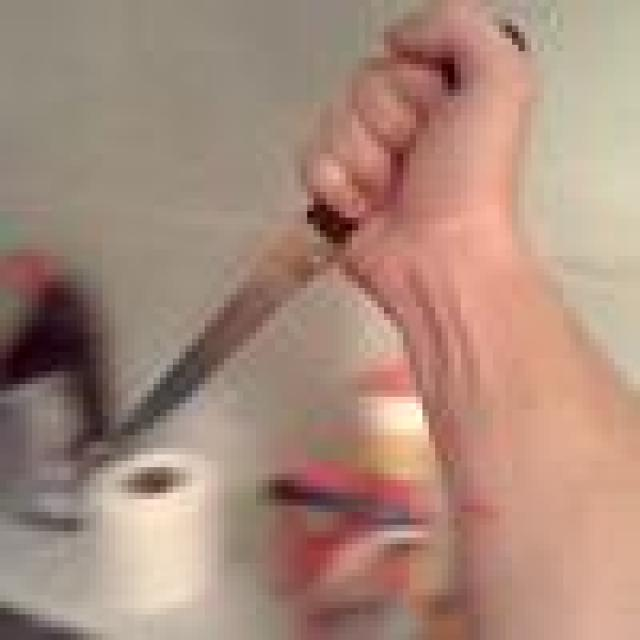knife: (132, 216, 338, 434)
